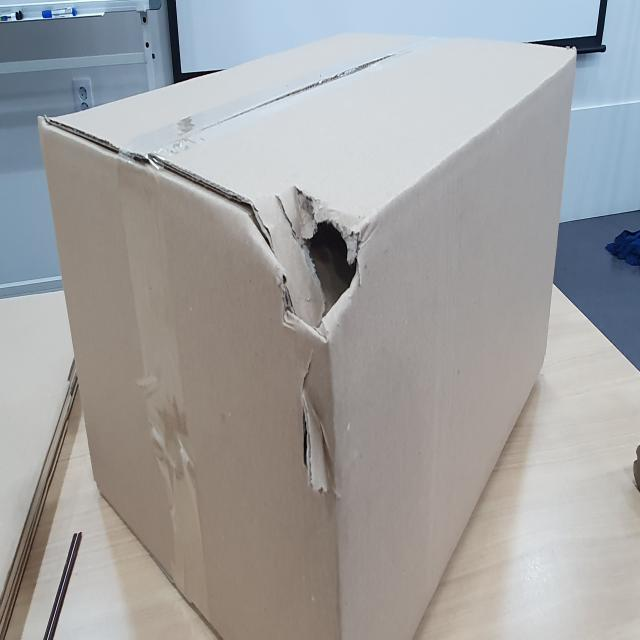hole: (275, 183, 368, 345)
